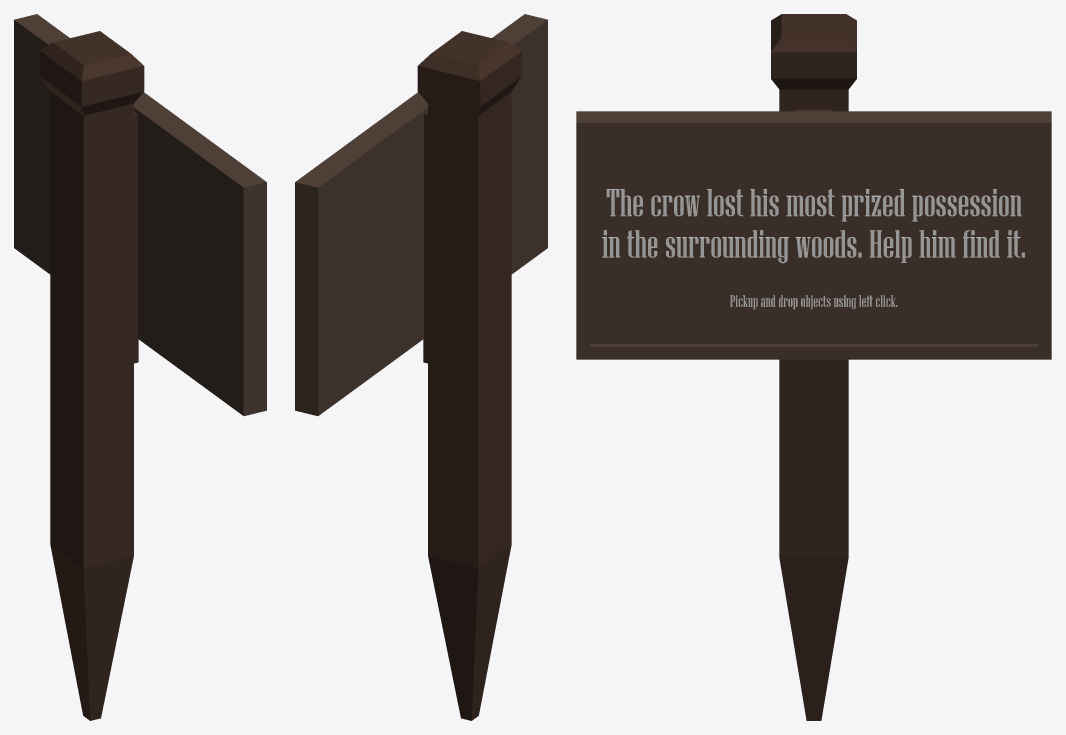
File: Crow sign.fbx
3 views of the same model, side by side, from view 1: azimuth 30°, elevation 25°; view 2: azimuth 150°, elevation 25°; view 3: azimuth 270°, elevation 25° (orthographic). The views are drawn at different scales.
Parts seen in each view (by area): view 1: Sign post.005, Sign.005; view 2: Sign post.005, Sign.005; view 3: Sign.005, Sign post.005, Text.006, Text.008.
Part boxes in pixels (x1,y1,x2,y2): Sign post.005: (40,31,144,720); Sign.005: (14,14,266,415); Sign post.005: (417,31,521,720); Sign.005: (295,14,547,415); Sign.005: (576,111,1051,359); Sign post.005: (771,14,856,720); Text.006: (602,189,1024,263); Text.008: (730,295,897,309).
Bounding box in the file's own units: 89.17 × 624 × 389.
